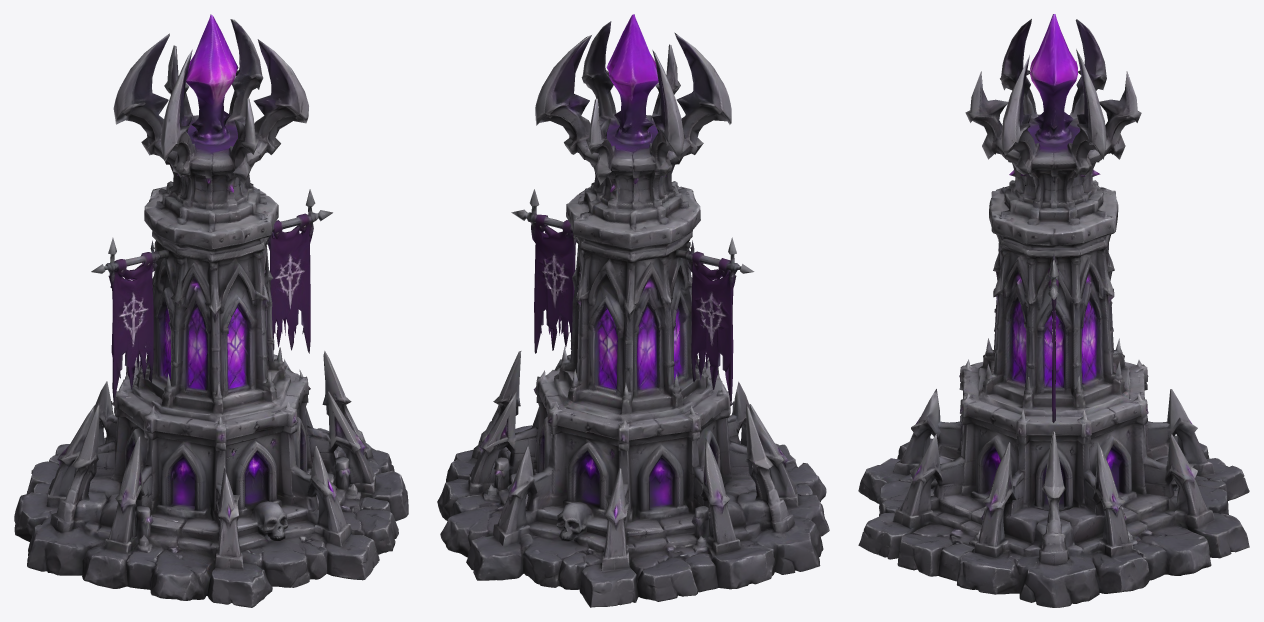
The picture shows the model from 3 angles, left to right: view 1: azimuth 30°, elevation 25°; view 2: azimuth 150°, elevation 25°; view 3: azimuth 270°, elevation 25°; orthographic projection.
Parts seen in each view (by area): view 1: tripo_node_b781352f-ff19-4aaa-85dc-ee147a821c0e; view 2: tripo_node_b781352f-ff19-4aaa-85dc-ee147a821c0e; view 3: tripo_node_b781352f-ff19-4aaa-85dc-ee147a821c0e.
Boxes of the visible parts, x1,y1,x2,y2 form: tripo_node_b781352f-ff19-4aaa-85dc-ee147a821c0e: [14, 14, 408, 607]; tripo_node_b781352f-ff19-4aaa-85dc-ee147a821c0e: [437, 14, 829, 607]; tripo_node_b781352f-ff19-4aaa-85dc-ee147a821c0e: [858, 14, 1249, 607].
Size of the model in its own units: 0.7466 by 0.9796 by 0.6869.
Materials: 1 (1 with a texture image).
